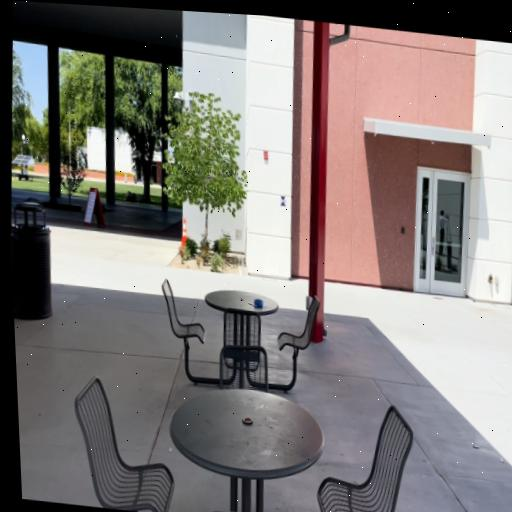target9: (279, 195, 286, 207)
